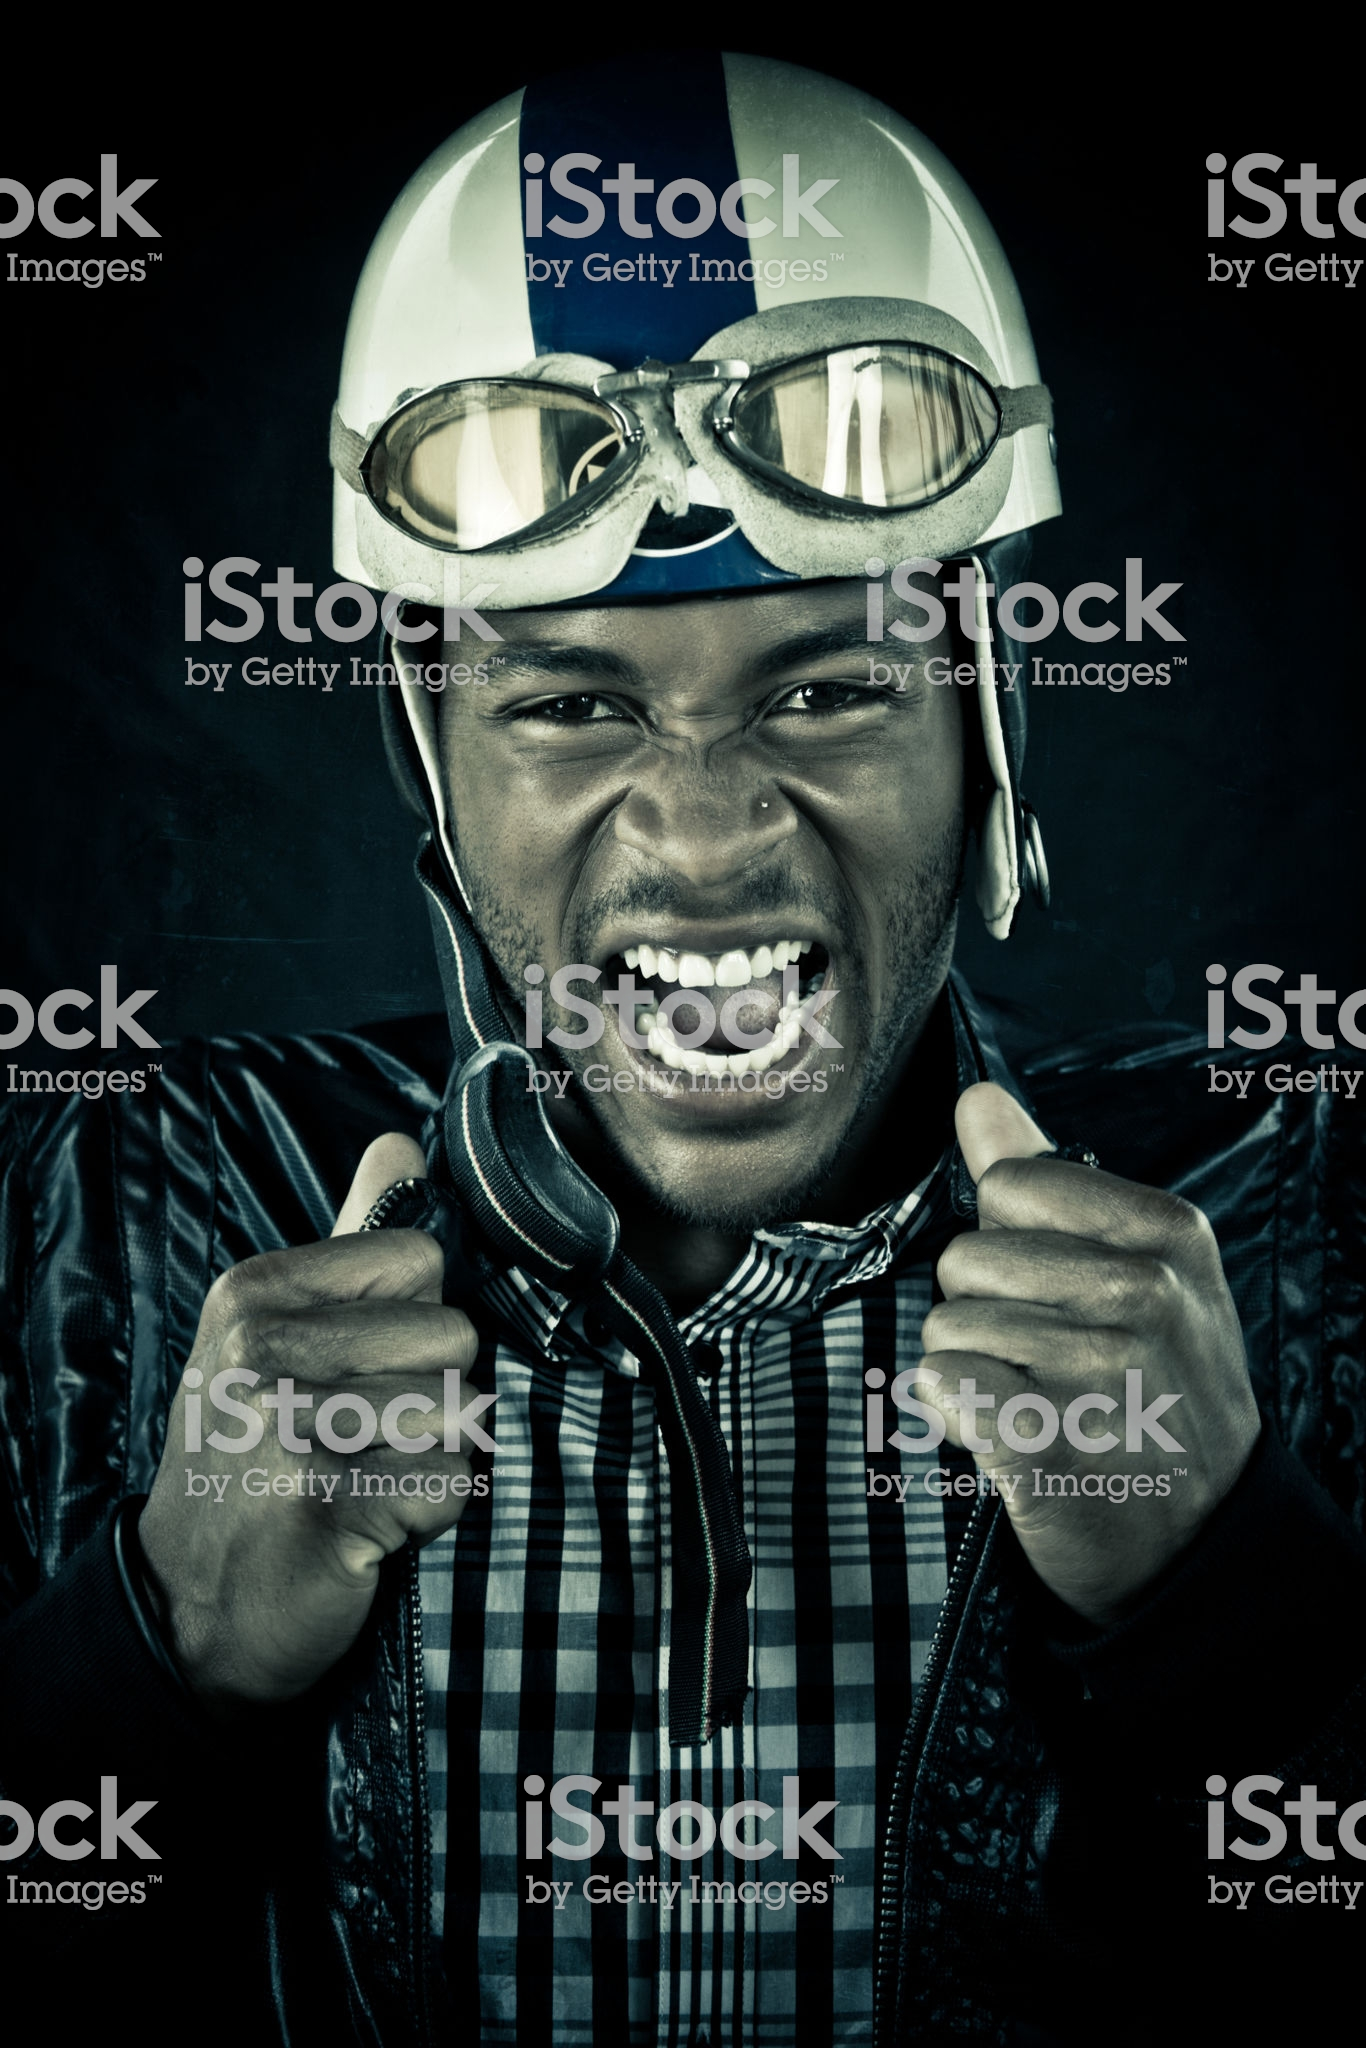helmet: (282, 56, 1107, 669)
